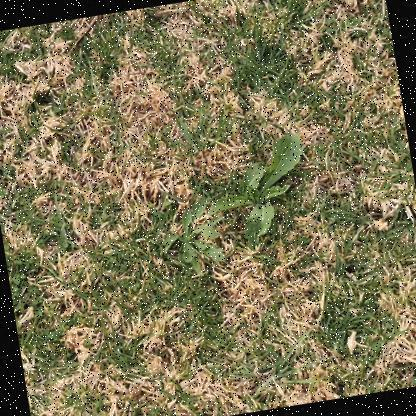Weeds: (198, 132, 318, 256), (152, 192, 227, 280)
